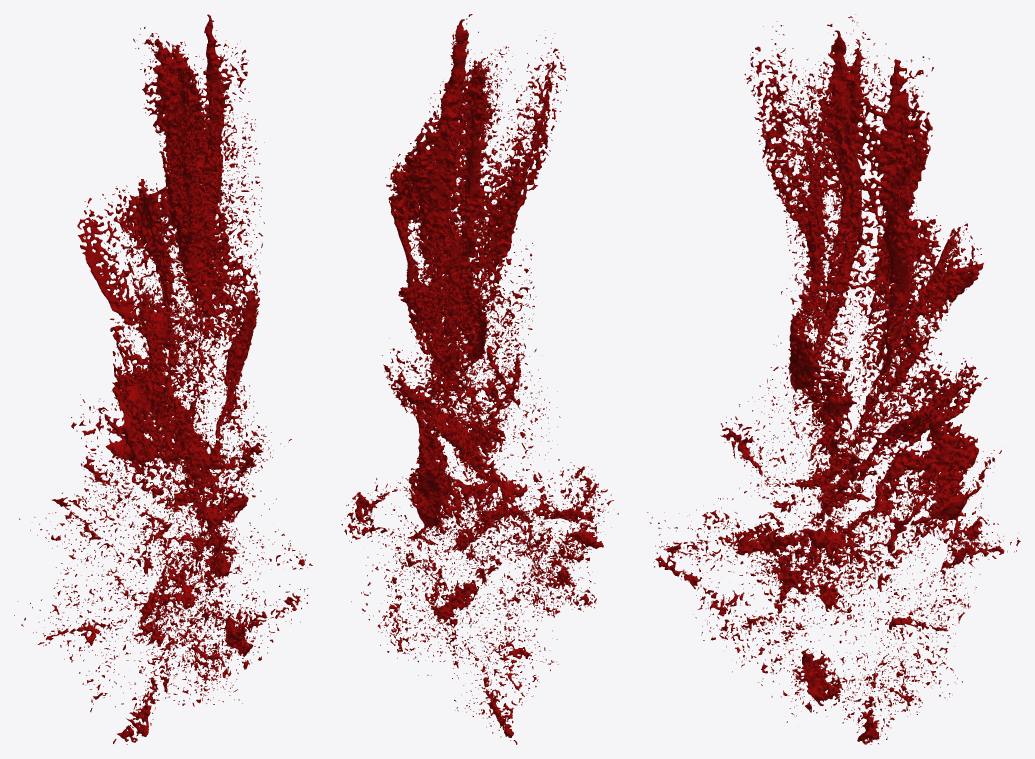
Rendered from blood_splatter (1).glb.
3 renders of one model, left to right at view 1: azimuth 30°, elevation 25°; view 2: azimuth 150°, elevation 25°; view 3: azimuth 270°, elevation 25°, orthographic. The views are drawn at different scales.
Parts seen in each view (by area): view 1: Object_6, Object_12, Object_7, Object_4, Object_8, Object_10, Object_14, Object_11, Object_9, Object_3, Object_13, Object_2 (+2 smaller); view 2: Object_4, Object_2, Object_12, Object_14, Object_6, Object_5, Object_7, Object_10, Object_8, Object_9, Object_11, Object_13 (+2 smaller); view 3: Object_2, Object_4, Object_3, Object_6, Object_13, Object_12, Object_5, Object_8, Object_7, Object_9, Object_14, Object_10 (+2 smaller).
Part boxes in pixels (x1,y1,x2,y2): Object_6: (126, 70, 252, 384); Object_12: (90, 318, 197, 564); Object_7: (145, 183, 306, 564); Object_4: (133, 14, 268, 669); Object_8: (92, 380, 302, 731); Object_10: (101, 369, 264, 644); Object_14: (84, 176, 199, 380); Object_11: (19, 57, 257, 584); Object_9: (14, 545, 242, 744); Object_3: (168, 49, 312, 660); Object_13: (77, 211, 223, 561); Object_2: (147, 15, 273, 561); Object_4: (407, 14, 497, 651); Object_2: (341, 19, 487, 578); Object_12: (396, 360, 504, 598); Object_14: (406, 172, 515, 409); Object_6: (396, 33, 567, 385); Object_5: (391, 46, 523, 405); Object_7: (451, 161, 544, 498); Object_10: (478, 352, 618, 574); Object_8: (396, 333, 603, 726); Object_9: (447, 508, 611, 744); Object_11: (417, 31, 551, 604); Object_13: (389, 289, 518, 586); Object_2: (789, 30, 1020, 639); Object_4: (779, 24, 933, 720); Object_3: (662, 73, 965, 731); Object_6: (744, 21, 977, 407); Object_13: (838, 228, 993, 606); Object_12: (836, 364, 1003, 593); Object_5: (812, 14, 983, 409); Object_8: (647, 395, 975, 741); Object_7: (649, 168, 847, 546); Object_9: (684, 533, 969, 744); Object_14: (823, 186, 984, 390); Object_10: (653, 372, 859, 591).
Bounding box in the file's own units: 0.5331 × 1.64 × 0.739.
